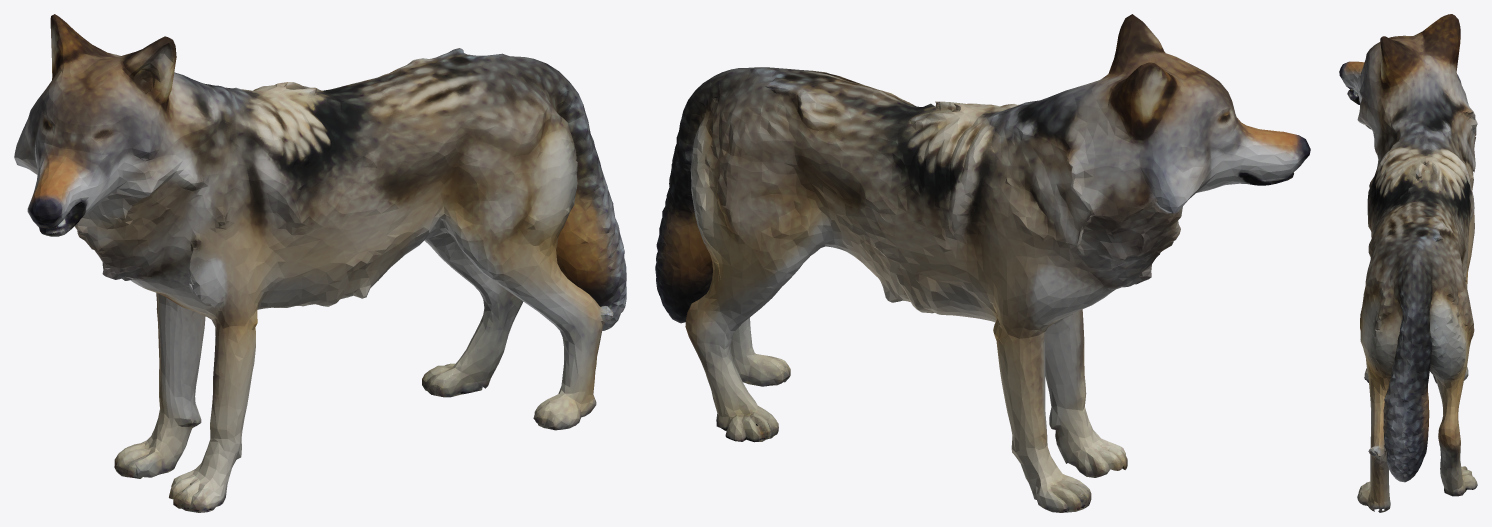
File: wolf.glb
3 renders of one model, left to right at view 1: azimuth 30°, elevation 25°; view 2: azimuth 150°, elevation 25°; view 3: azimuth 270°, elevation 25°, orthographic. The views are drawn at different scales.
Visible parts, largest first — view 1: geometry_0; view 2: geometry_0; view 3: geometry_0.
Part boxes in pixels (bbox=[...]): geometry_0: bbox=[14, 14, 626, 512]; geometry_0: bbox=[655, 14, 1310, 512]; geometry_0: bbox=[1339, 14, 1477, 512].
Size of the model in its own units: 0.9901 by 0.7149 by 0.2689.
Materials: 1 (1 with a texture image).
